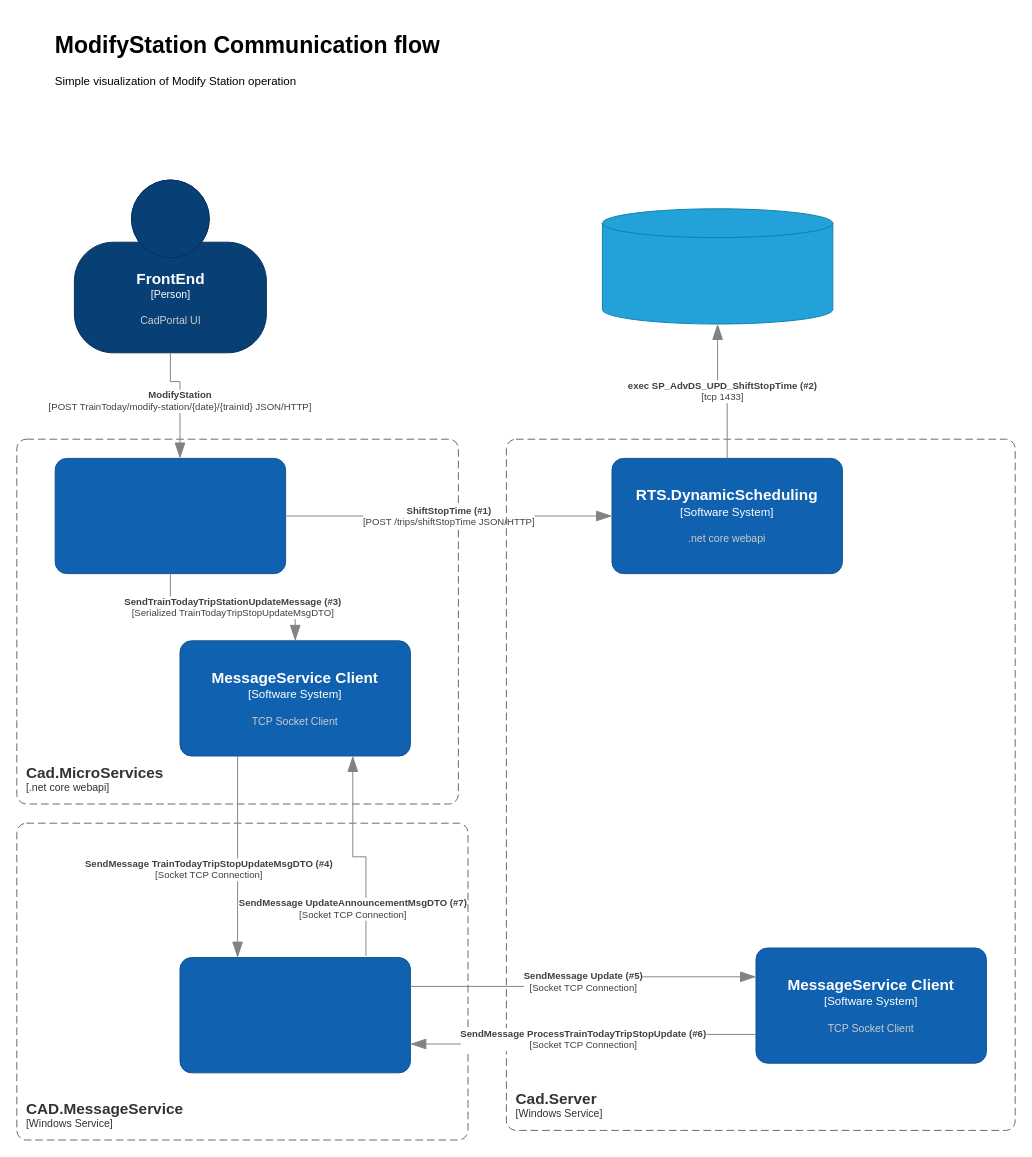
Some shapes in this 1032 by 1157 pixel diagram are drawn without their labels. The shapes that lost their labels are listed below. From the top down, each one's centre as x and y in pixels, then its label:
[717,266]: CleverCAD [Container : SQL Server Database] CleverCAD DB
[170,515]: TrainToday.RESTAPI [Software System] .net core 2.2 webapi
[294,1015]: CAD.MessageServer [Software System] TCP Socket Service Hub
